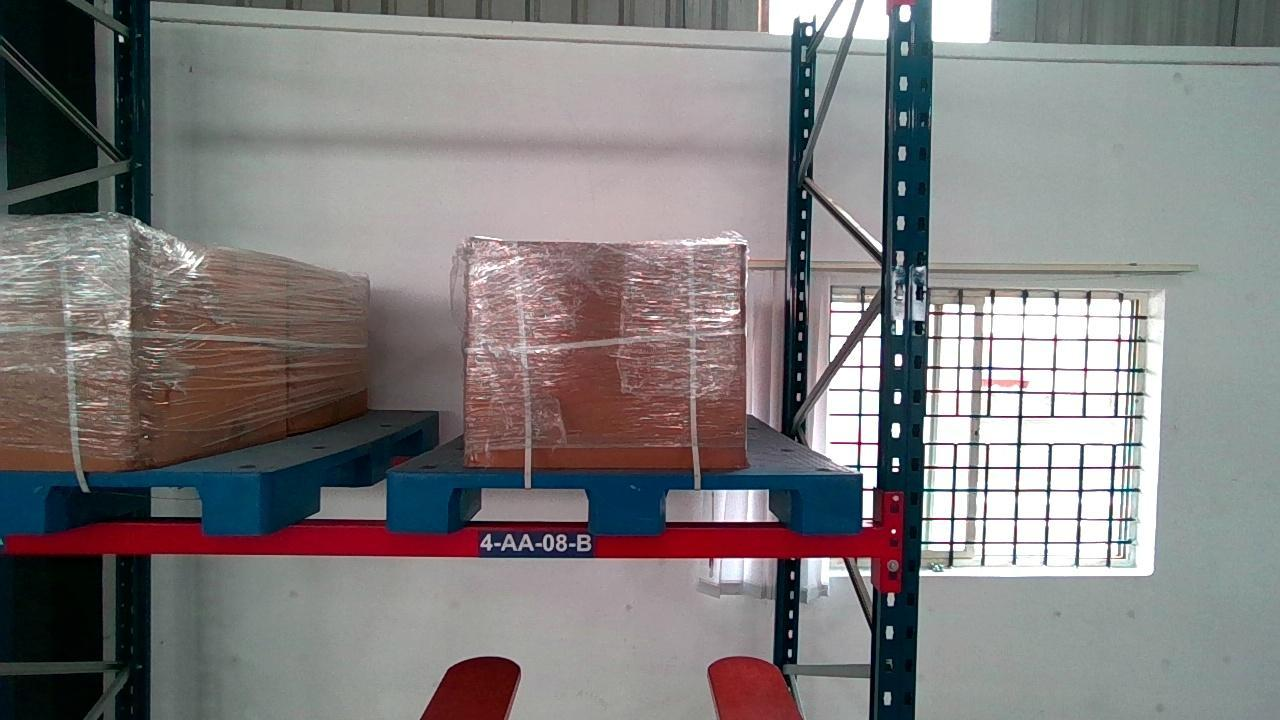h_rack: (2, 526, 883, 556)
small_pallet: (388, 472, 859, 532), (1, 470, 261, 534)
